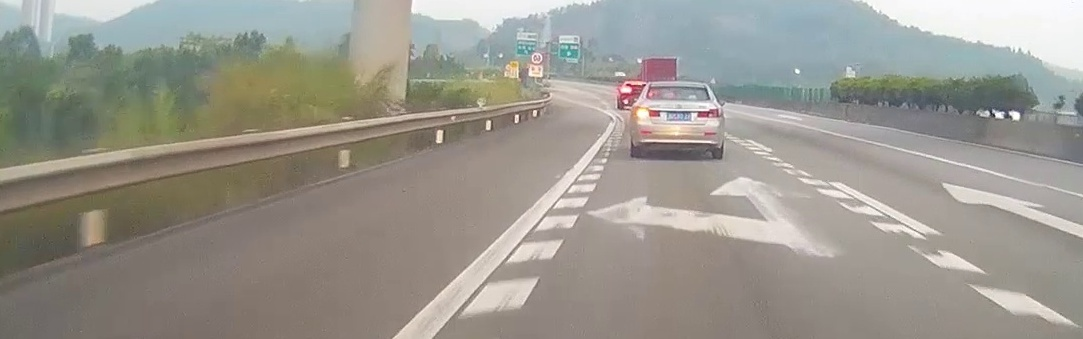L_light: (636, 108, 661, 118)
R_light: (696, 108, 718, 117)
T_light: (671, 96, 684, 99)
day-left: (630, 80, 724, 159)
